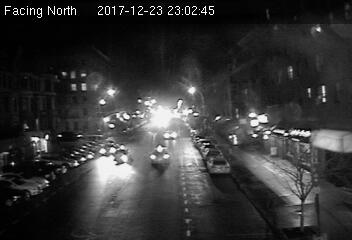car: (205, 155, 231, 174), (149, 145, 171, 164), (113, 144, 132, 165), (99, 143, 117, 155)
